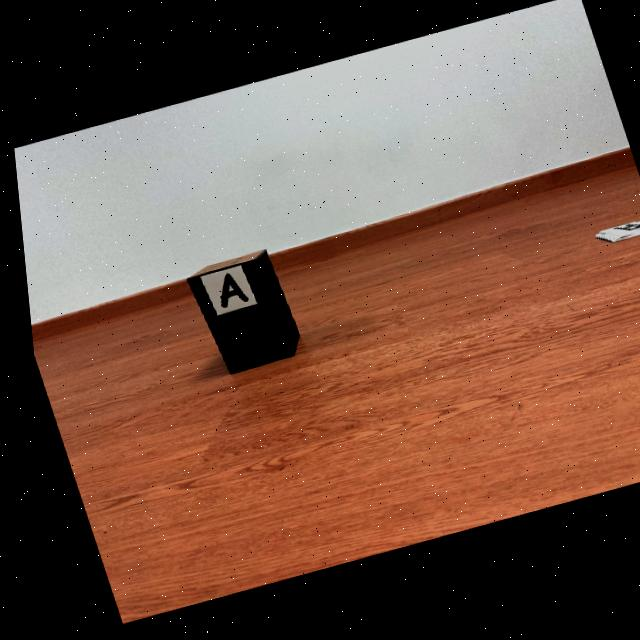A: (214, 275, 241, 309)
